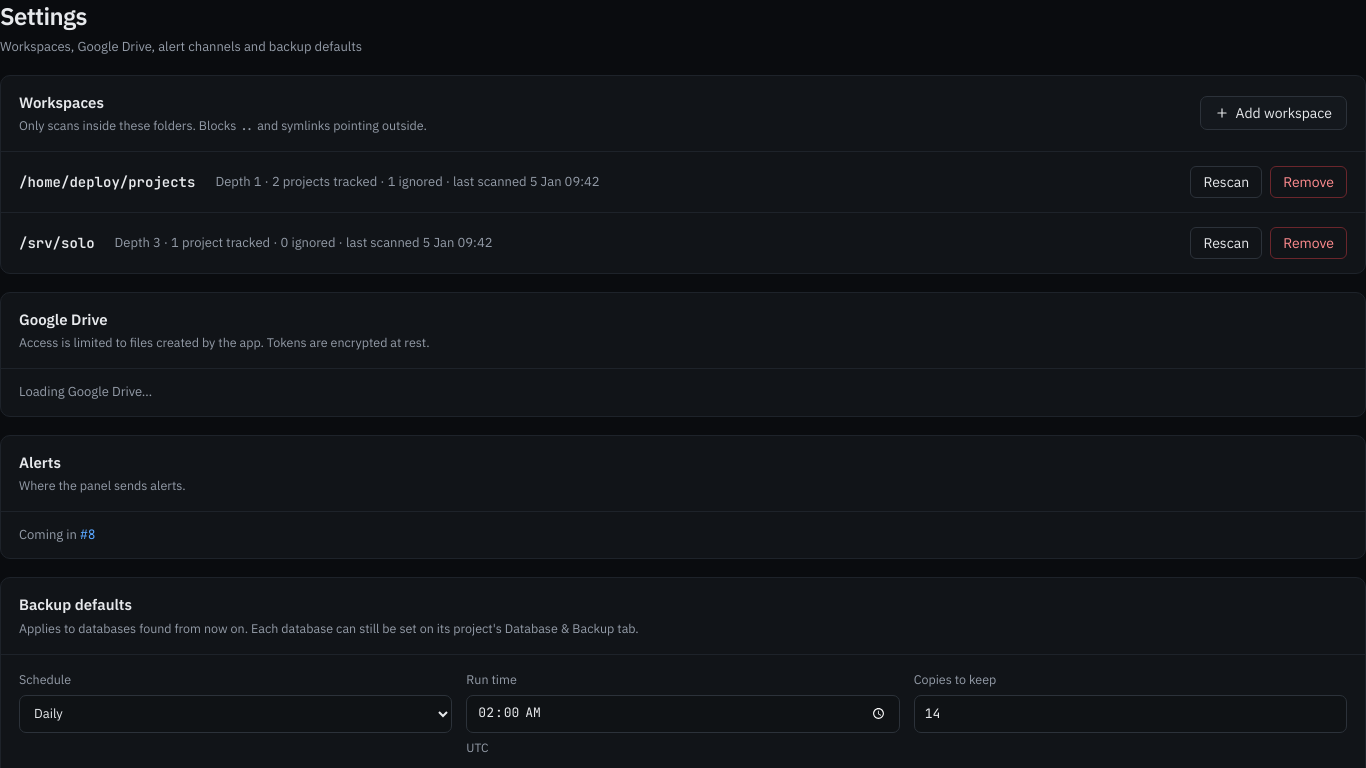
SettingsPage › Remove › posts the removal as JSON, reloads the list and toasts
Click the button with aria-label "Remove /home/deploy/projects".
click(1309, 182)  # box [1270,166,1347,198]
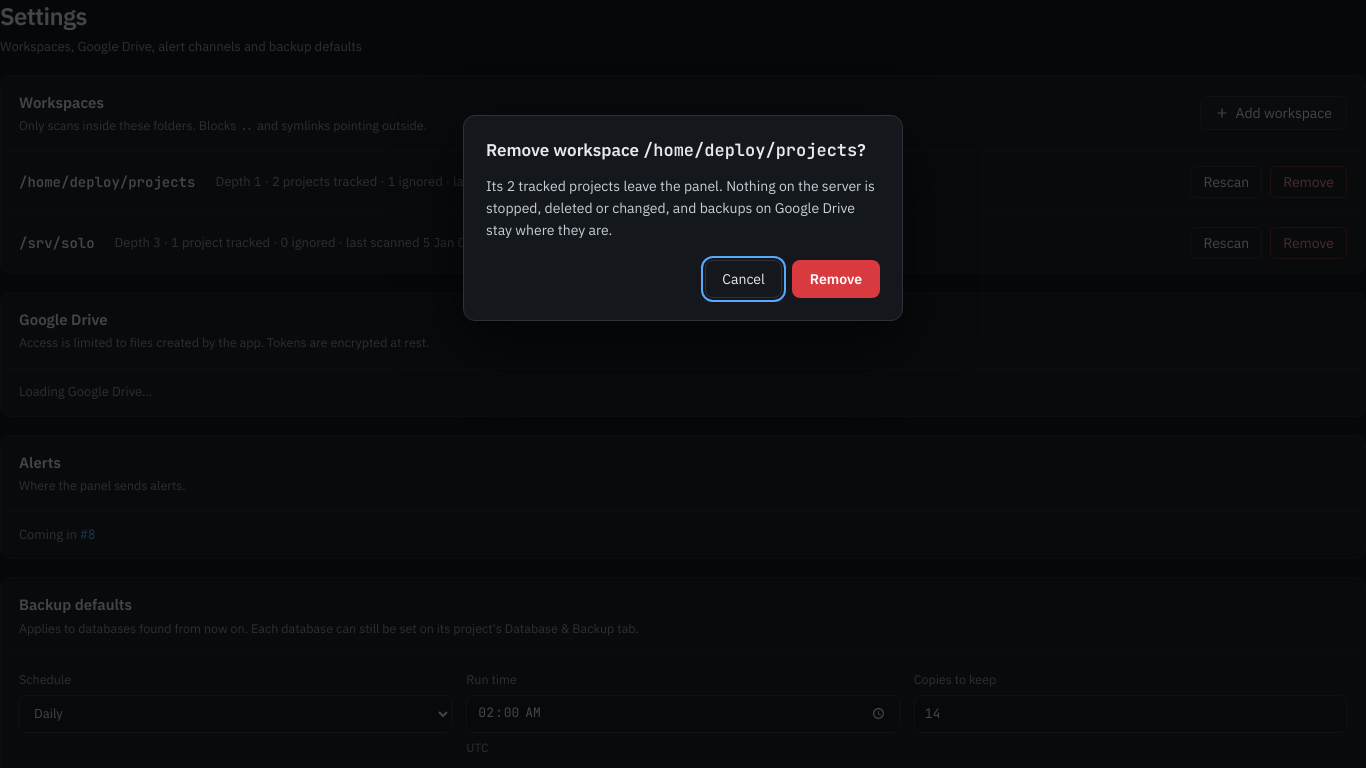
Click the button "Remove".
click(836, 278)  # box [792,260,880,298]
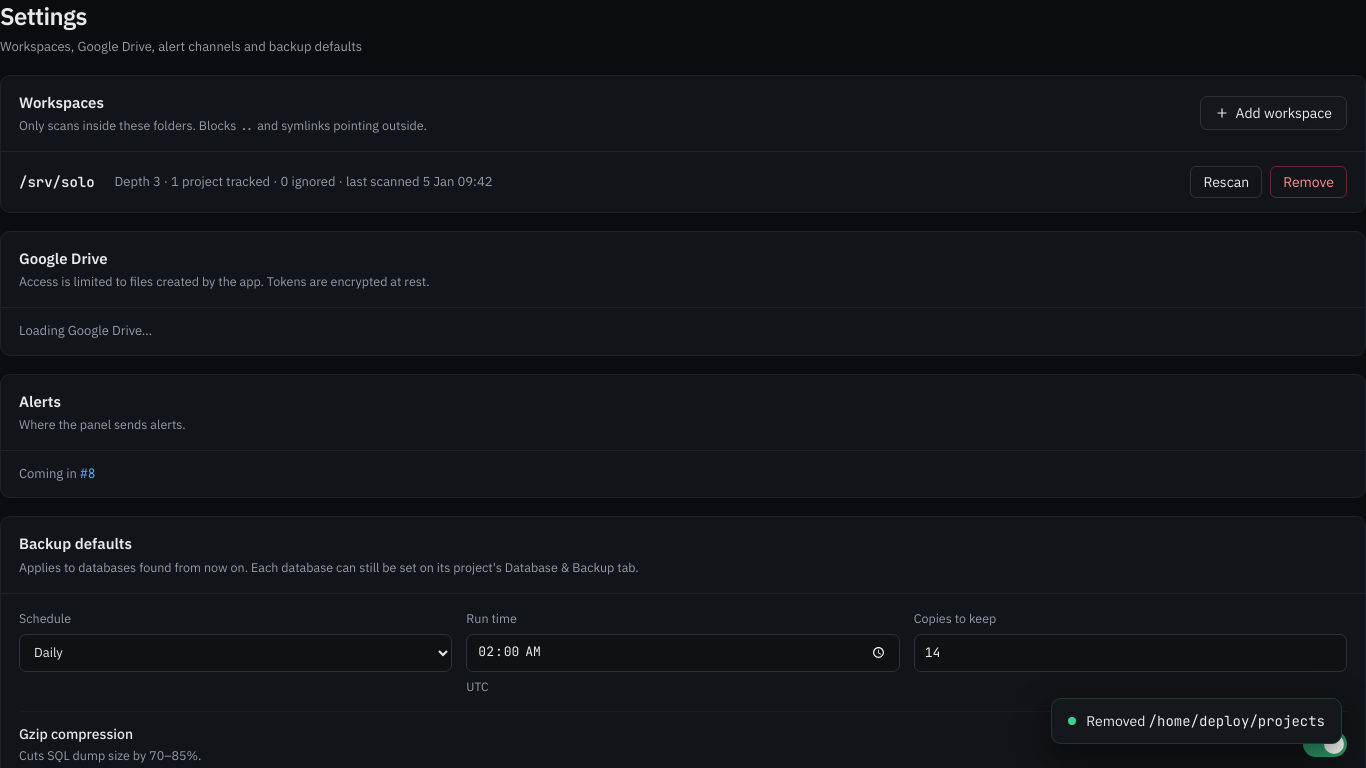
Expected: the text "/srv/solo" is shown, [19,172,95,192]
Result: the dialog is gone
Result: the text "Removed /home/deploy/projects" is shown at [1086,711,1325,731]
